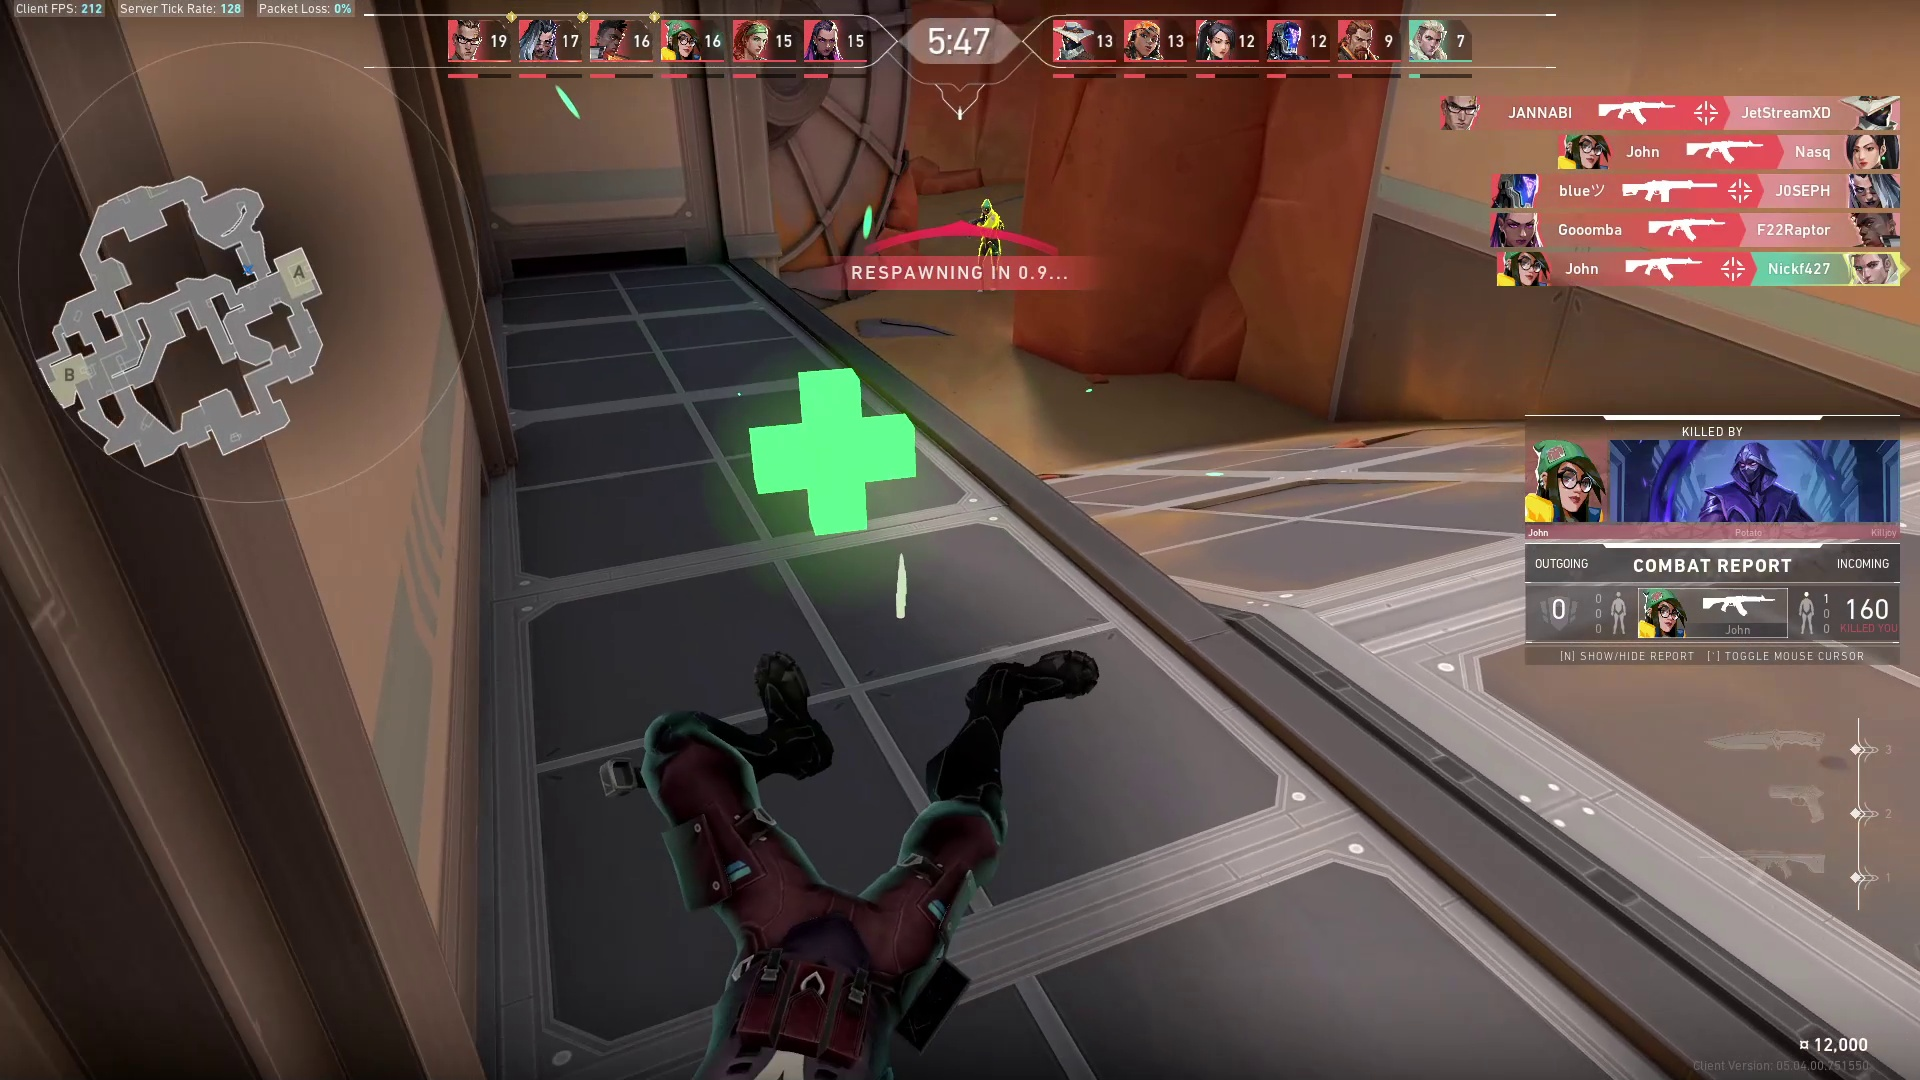enemy_gen: (968, 214, 1003, 294)
enemy_head: (980, 197, 993, 214)
